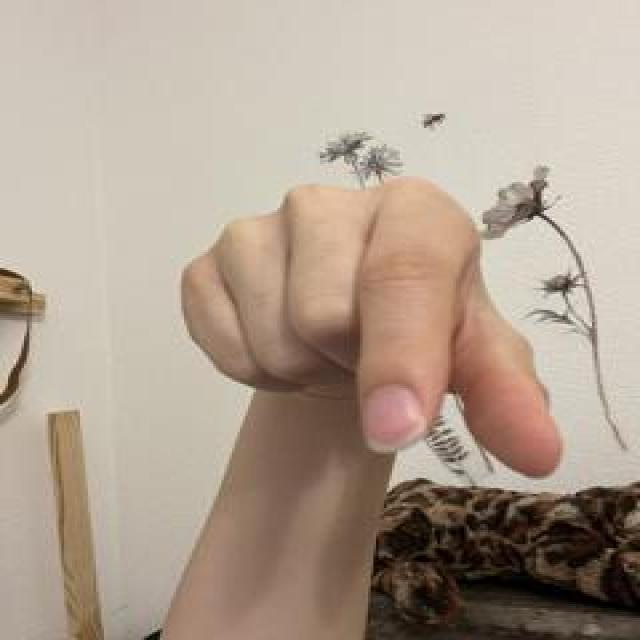Q: (175, 174, 572, 484)
